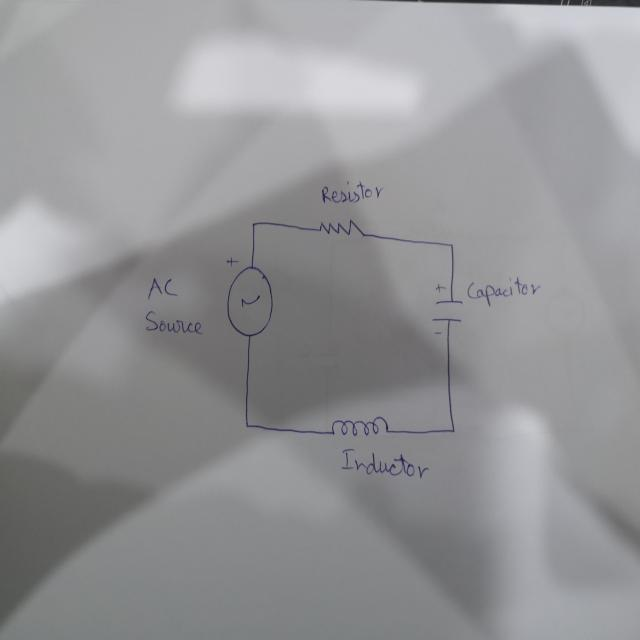capacitor: (428, 281, 465, 337)
inductor: (330, 412, 389, 438)
junction: (241, 415, 255, 433), (249, 218, 259, 231), (446, 240, 456, 252), (448, 424, 457, 436)
resistor: (317, 216, 365, 238)
source: (224, 253, 276, 343)
text: (338, 446, 430, 480), (465, 278, 538, 302), (320, 178, 384, 205), (144, 308, 204, 336), (146, 274, 179, 300)
